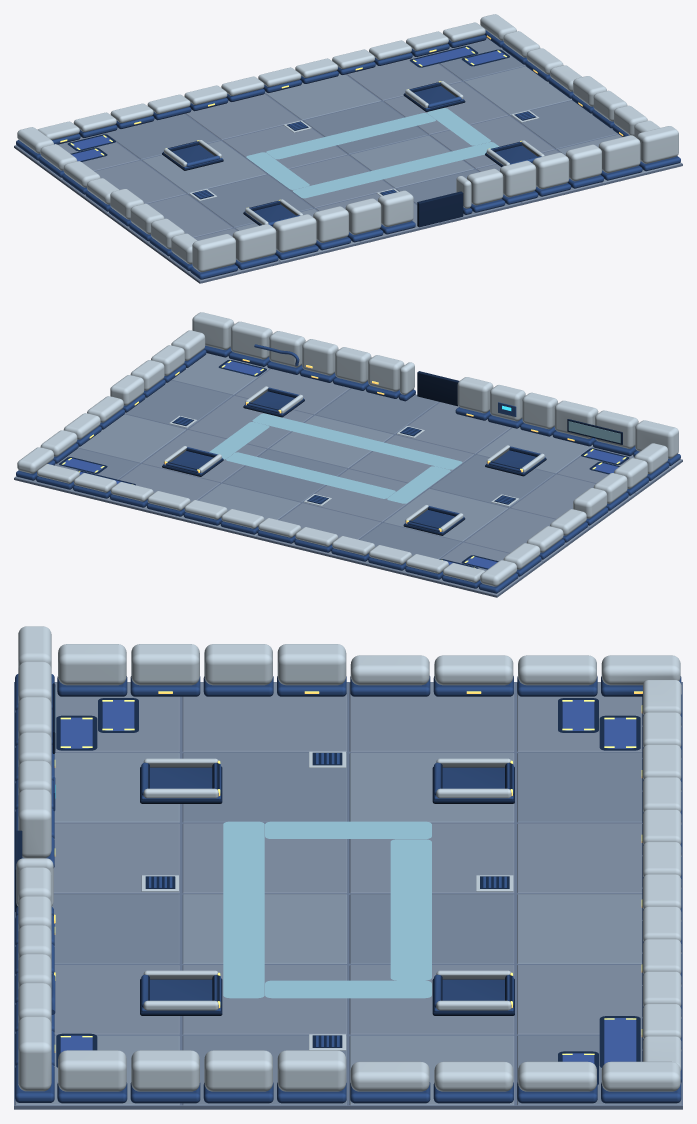
File: CryoSoftRoomProps_cryo-boss.fbx
3 views of the same model, one above another, from view 1: azimuth 30°, elevation 25°; view 2: azimuth 150°, elevation 25°; view 3: azimuth 270°, elevation 25° (orthographic). The views are drawn at different scales.
Parts seen in each view (by area): view 1: SC_wall_Soft_Ivory, SC_floor_Soft_Floor, SC_floor_Soft_FloorShade, SC_floor_Soft_FloorLight, SC_wall_Soft_Blue, SC_marking_Soft_Ice, SC_floor_Soft_Seam, SC_obstacle_Soft_Blue, SC_marking_Soft_Dock, SC_obstacle_Soft_Ivory, SC_wall_Soft_Navy, SC_marking_Soft_Navy (+1 smaller); view 2: SC_wall_Soft_Ivory, SC_floor_Soft_Floor, SC_floor_Soft_FloorShade, SC_floor_Soft_FloorLight, SC_wall_Soft_Blue, SC_marking_Soft_Ice, SC_floor_Soft_Seam, SC_obstacle_Soft_Blue, SC_marking_Soft_Navy, SC_marking_Soft_Dock, SC_wall_Soft_Navy, SC_obstacle_Soft_Ivory (+2 smaller); view 3: SC_floor_Soft_Floor, SC_wall_Soft_Ivory, SC_floor_Soft_FloorShade, SC_floor_Soft_FloorLight, SC_marking_Soft_Ice, SC_wall_Soft_Blue, SC_floor_Soft_Seam, SC_obstacle_Soft_Blue, SC_marking_Soft_Dock, SC_obstacle_Soft_Ivory, SC_marking_Soft_Navy, SC_obstacle_Soft_Navy (+2 smaller).
Boxes of the visible parts, x1,y1,x2,y2 form: SC_wall_Soft_Ivory: [17, 14, 678, 272]; SC_floor_Soft_Floor: [15, 55, 600, 281]; SC_floor_Soft_FloorShade: [105, 38, 617, 227]; SC_floor_Soft_FloorLight: [142, 66, 681, 261]; SC_wall_Soft_Blue: [16, 30, 680, 279]; SC_marking_Soft_Ice: [246, 108, 499, 198]; SC_floor_Soft_Seam: [14, 54, 682, 283]; SC_obstacle_Soft_Blue: [163, 82, 541, 226]; SC_marking_Soft_Dock: [70, 47, 506, 161]; SC_obstacle_Soft_Ivory: [163, 81, 544, 224]; SC_wall_Soft_Navy: [417, 191, 463, 227]; SC_marking_Soft_Navy: [67, 46, 536, 199]; SC_wall_Soft_Ivory: [17, 312, 678, 586]; SC_floor_Soft_Floor: [96, 369, 681, 595]; SC_floor_Soft_FloorShade: [15, 380, 554, 575]; SC_floor_Soft_FloorLight: [78, 353, 592, 541]; SC_wall_Soft_Blue: [16, 344, 680, 593]; SC_marking_Soft_Ice: [209, 413, 462, 503]; SC_floor_Soft_Seam: [14, 368, 682, 597]; SC_obstacle_Soft_Blue: [163, 387, 545, 533]; SC_marking_Soft_Navy: [59, 360, 629, 569]; SC_marking_Soft_Dock: [62, 361, 625, 568]; SC_wall_Soft_Navy: [417, 371, 622, 444]; SC_obstacle_Soft_Ivory: [163, 386, 544, 531]; SC_floor_Soft_Floor: [53, 682, 681, 1034]; SC_wall_Soft_Ivory: [16, 626, 681, 1091]; SC_floor_Soft_FloorShade: [15, 752, 681, 1105]; SC_floor_Soft_FloorLight: [15, 752, 642, 1105]; SC_marking_Soft_Ice: [223, 821, 431, 998]; SC_wall_Soft_Blue: [15, 674, 681, 1103]; SC_floor_Soft_Seam: [14, 682, 682, 1109]; SC_obstacle_Soft_Blue: [141, 762, 513, 1011]; SC_marking_Soft_Dock: [60, 700, 636, 1063]; SC_obstacle_Soft_Ivory: [143, 758, 511, 1010]; SC_marking_Soft_Navy: [56, 698, 640, 1084]; SC_obstacle_Soft_Navy: [140, 766, 514, 1015].
Size of the model in its own units: 4800 by 334 by 3200.
